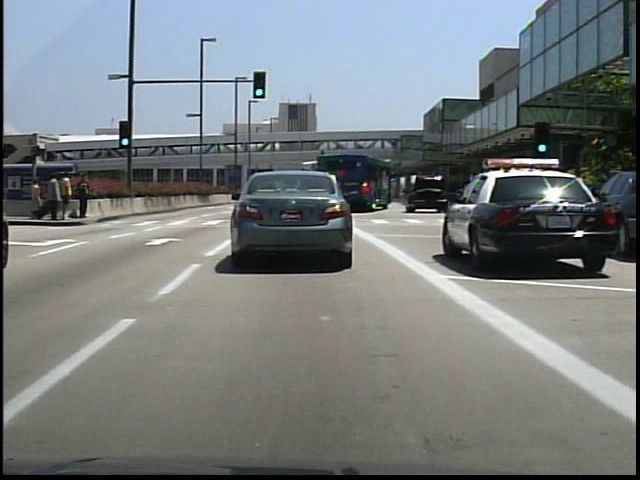person: (76, 172, 94, 222), (27, 176, 46, 221), (47, 173, 64, 222), (61, 171, 76, 223)
